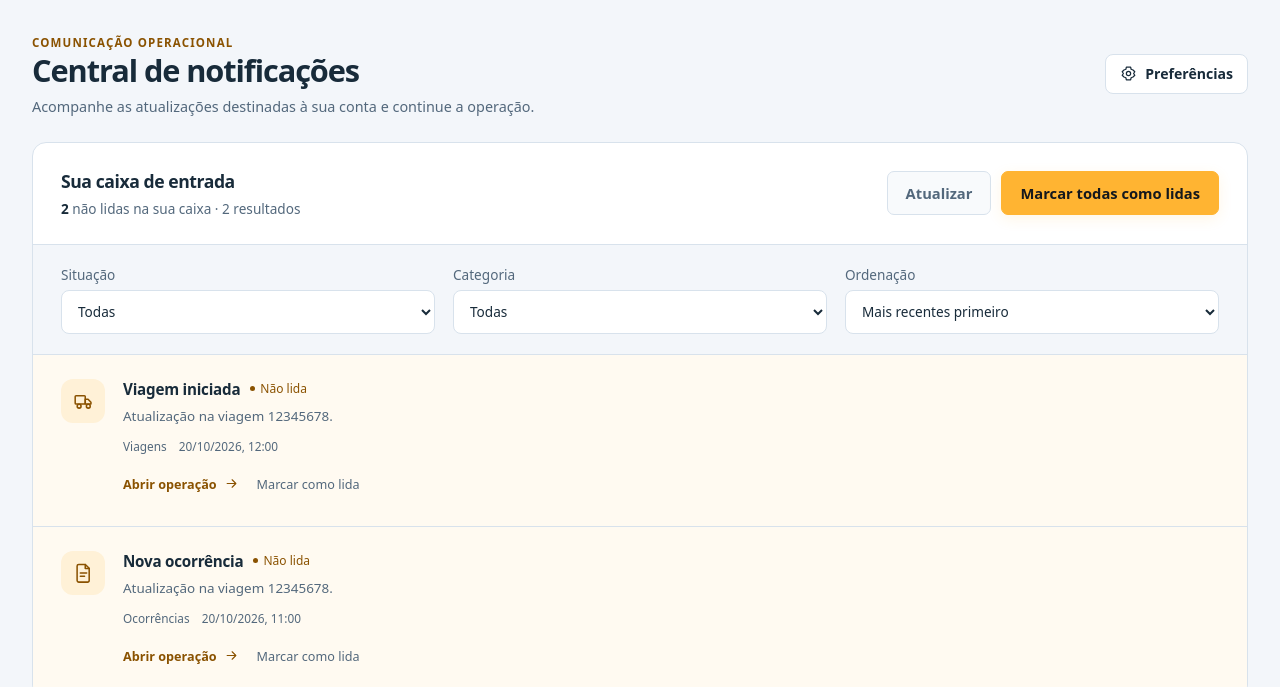
Test: não navega ou marca leitura quando a origem está proibida
Click the button with aria-label "Abrir operação: Viagem iniciada". click: {"x": 181, "y": 484}
box: [123,466,239,502]
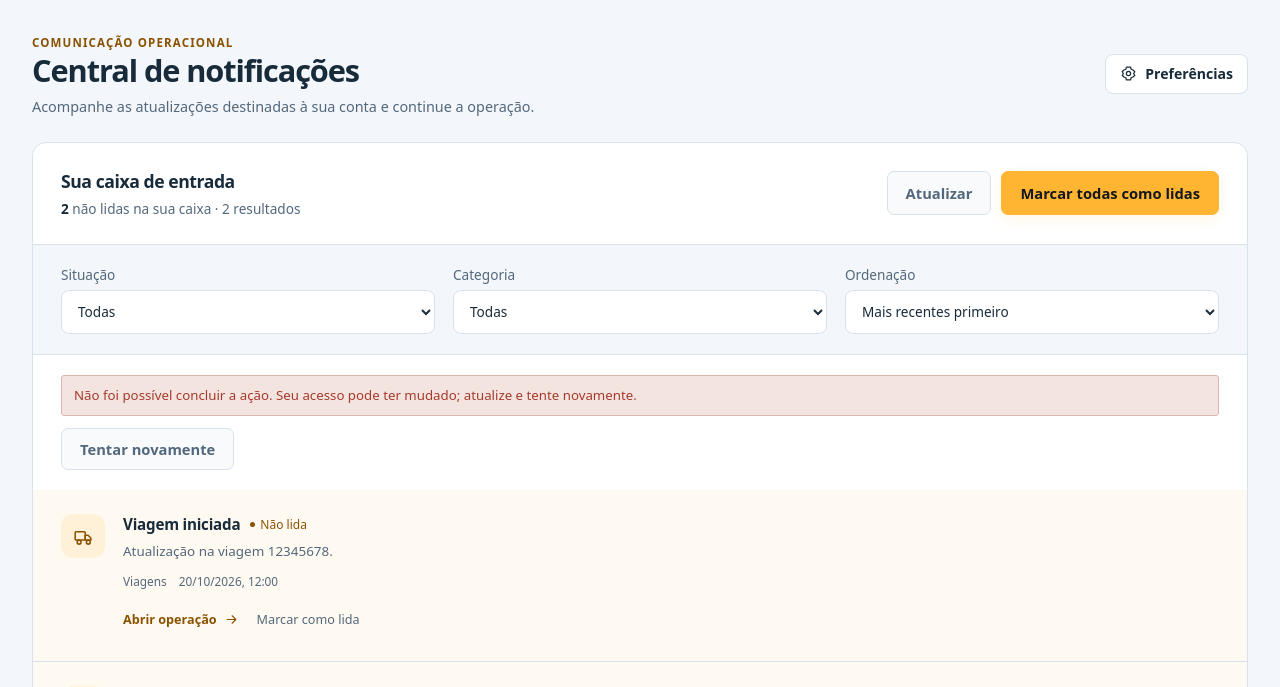
Expected: the message shows "Seu acesso pode ter mudado", [74,386,637,404]
